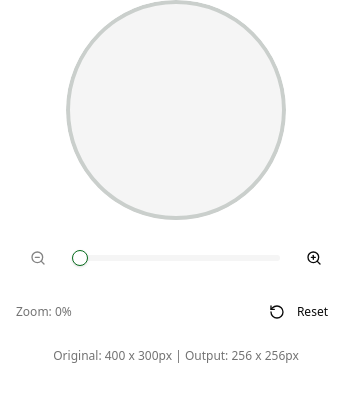
it: ImageCropEditor › Zoom Behavior › reset button returns zoom to initial state
// Zoom in first
Click the button with test id "zoom-in-btn".
click(314, 258)  # box x1=292 y1=236 x2=336 y2=280
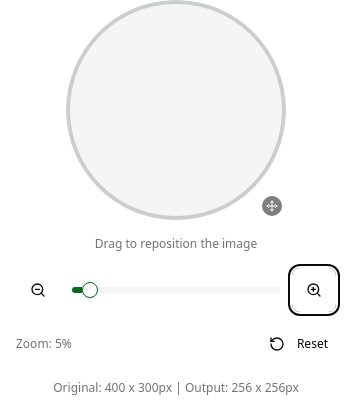
Expected: the text "Zoom: 0%" is gone
Click the button with test id "reset-btn".
click(298, 344)  # box x1=261 y1=324 x2=336 y2=364
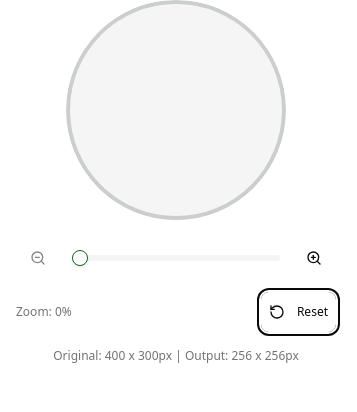
Expected: the text "Zoom: 0%" is shown, x1=16 y1=304 x2=72 y2=320
